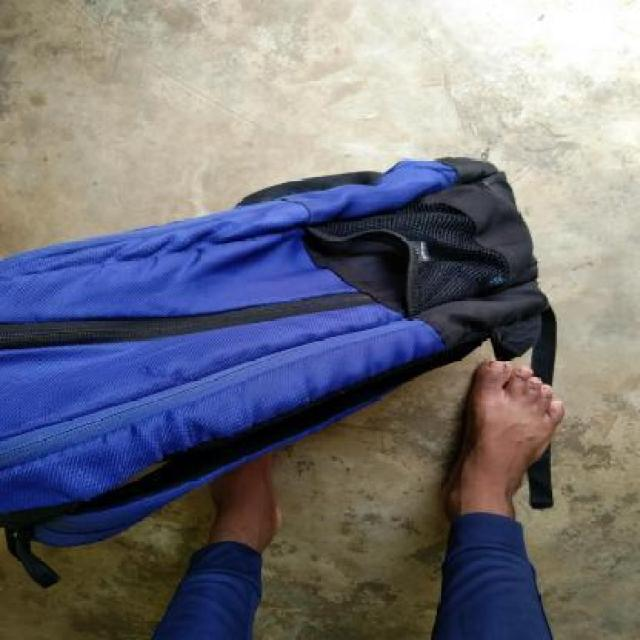backpack: (0, 148, 565, 560)
